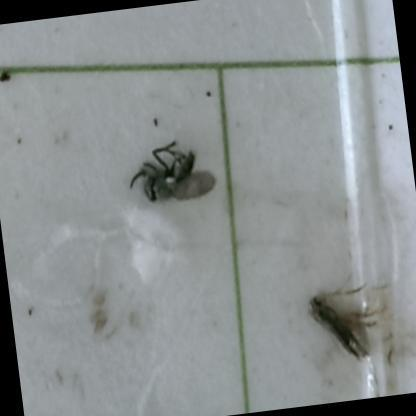prays_oleae: (294, 250, 398, 380), (120, 117, 226, 233)
